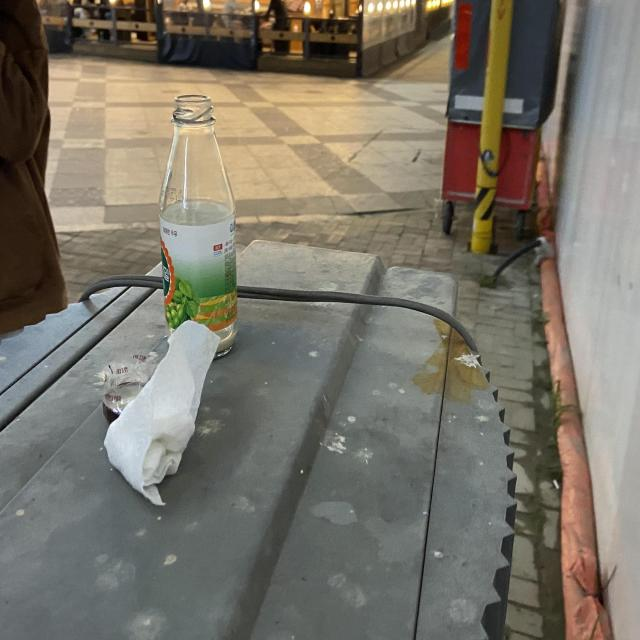glass: (158, 95, 238, 358)
